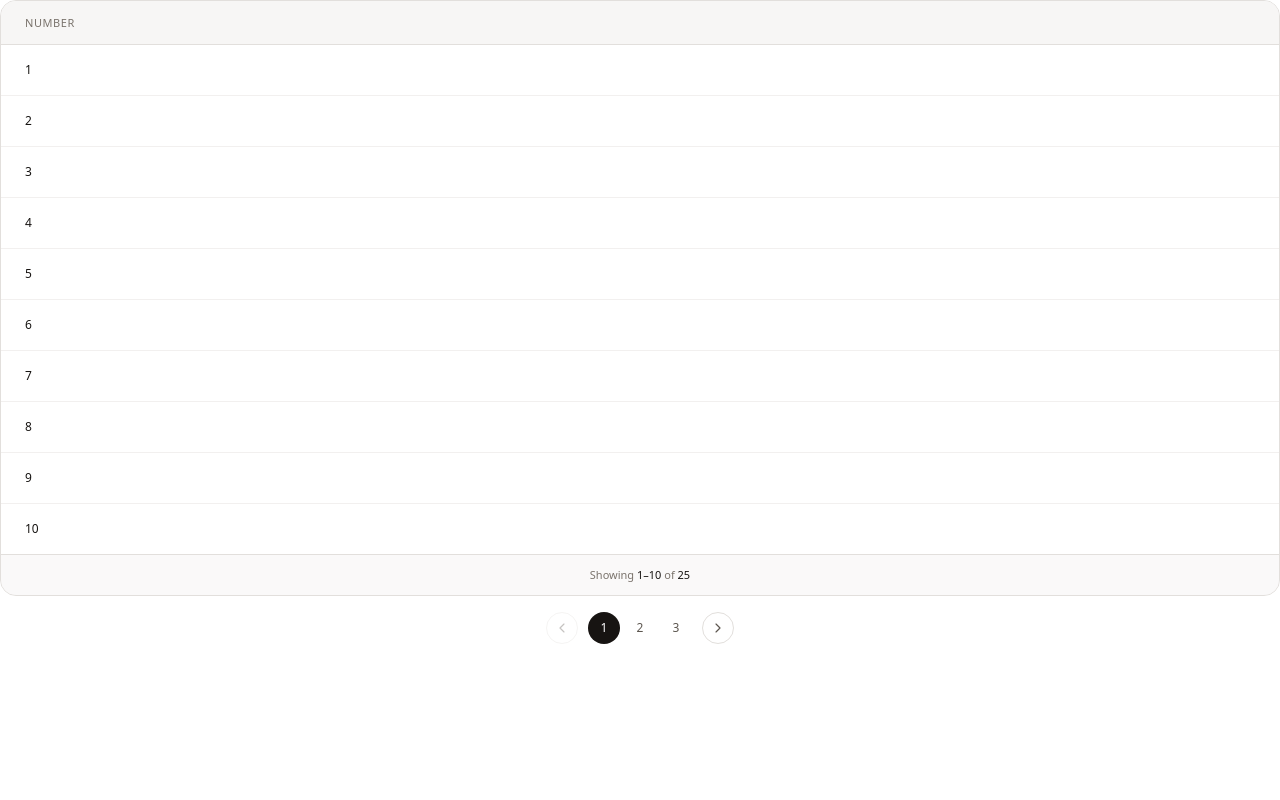
Test: Table pagination › splits 25 rows into pages of 10, 10 and 5
Check: the text "1" is shown, box [1,45,1279,96]
Click the button named "Next page" at (718, 628), box [702,612,734,644]
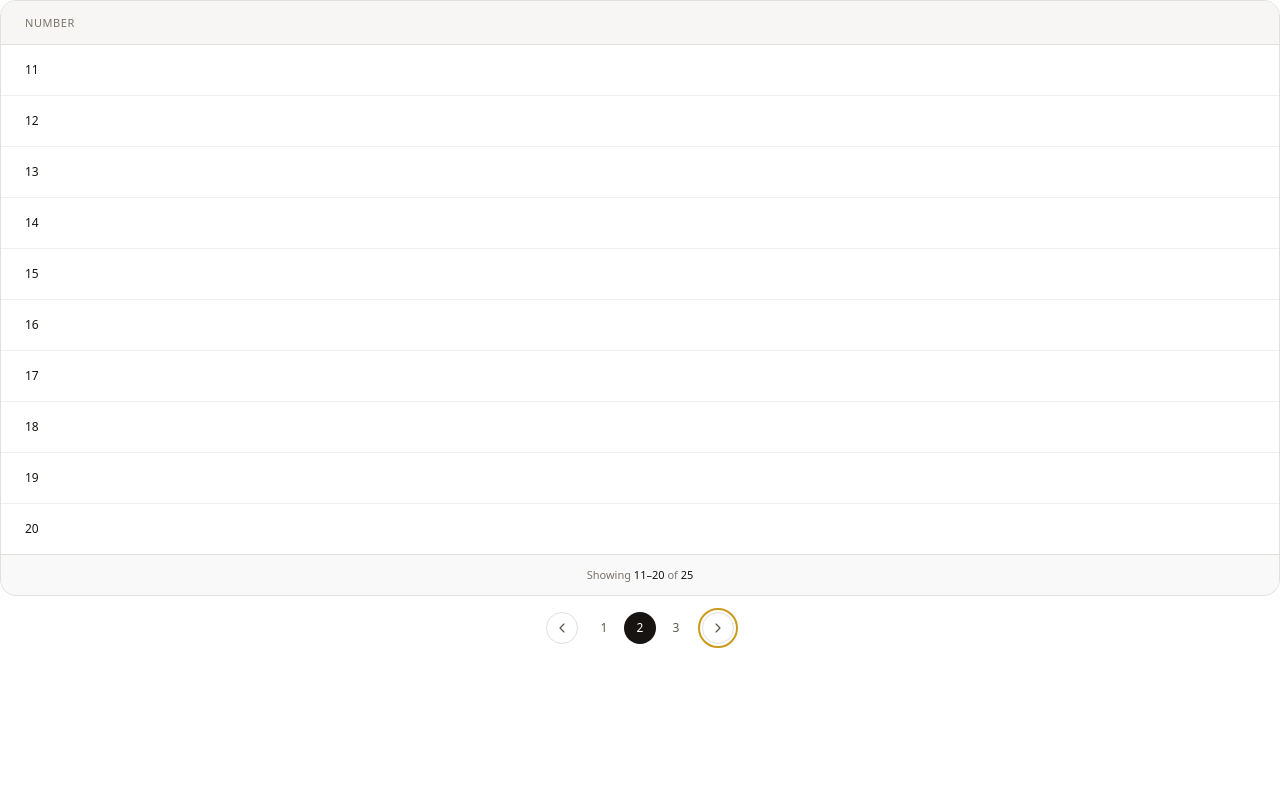
Check: the text "11" is shown, box [1,45,1279,96]
Click the button named "Next page" at (718, 628), box [702,612,734,644]
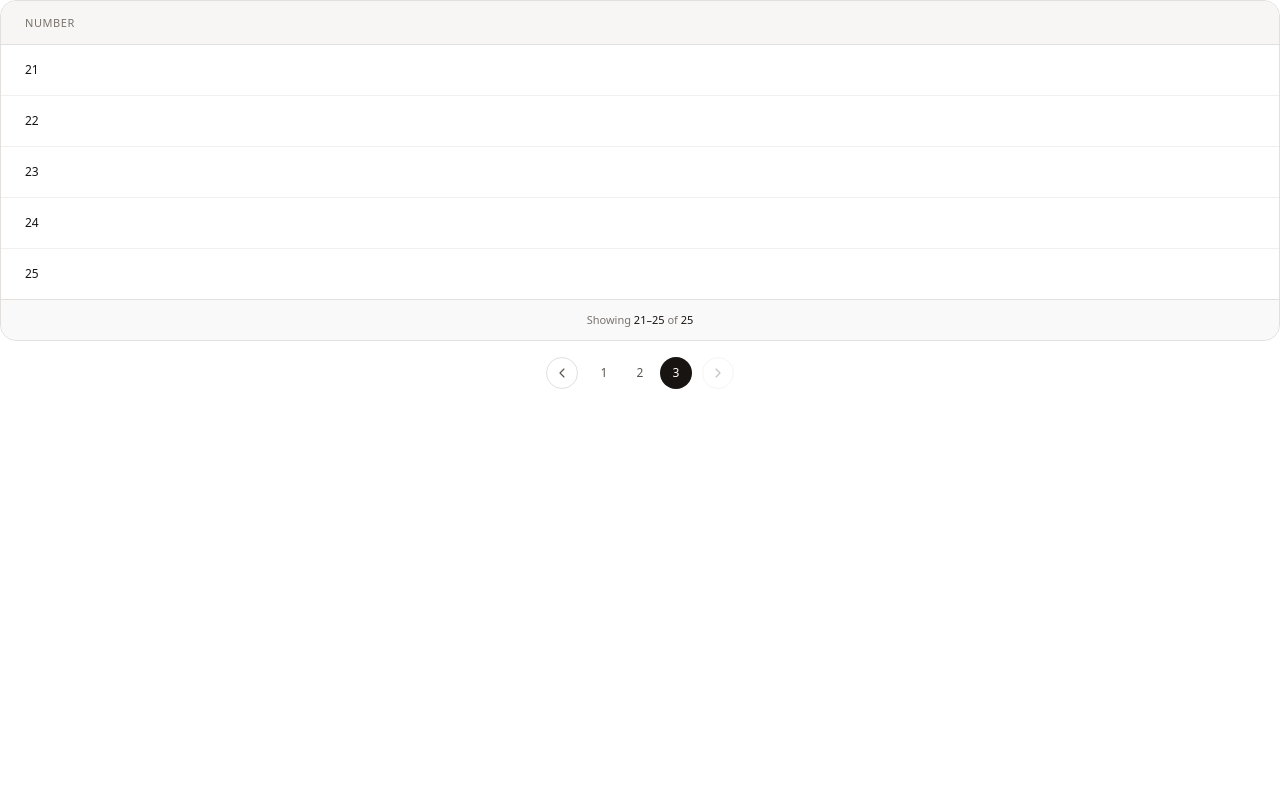
Check: the text "21" is shown, box [1,45,1279,96]
Check: the text "21–25" is shown, box [634,312,665,327]
